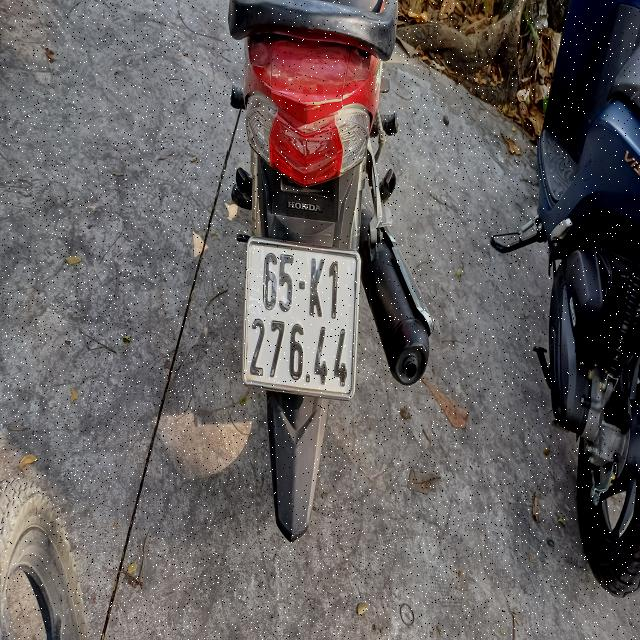1: (327, 259, 339, 321)
2: (250, 312, 264, 380)
4: (333, 328, 348, 388), (315, 324, 329, 388)
5: (280, 249, 293, 315)
6: (288, 319, 305, 385), (263, 247, 278, 310)
7: (271, 317, 286, 380)
K: (310, 255, 325, 318)
